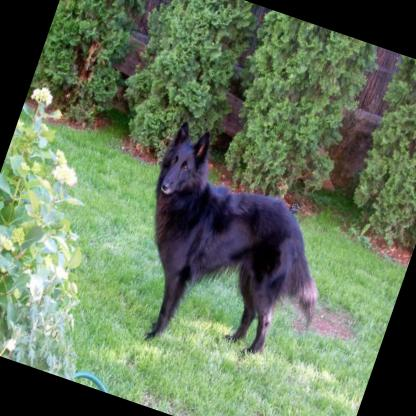groenendael: (104, 117, 359, 390)
